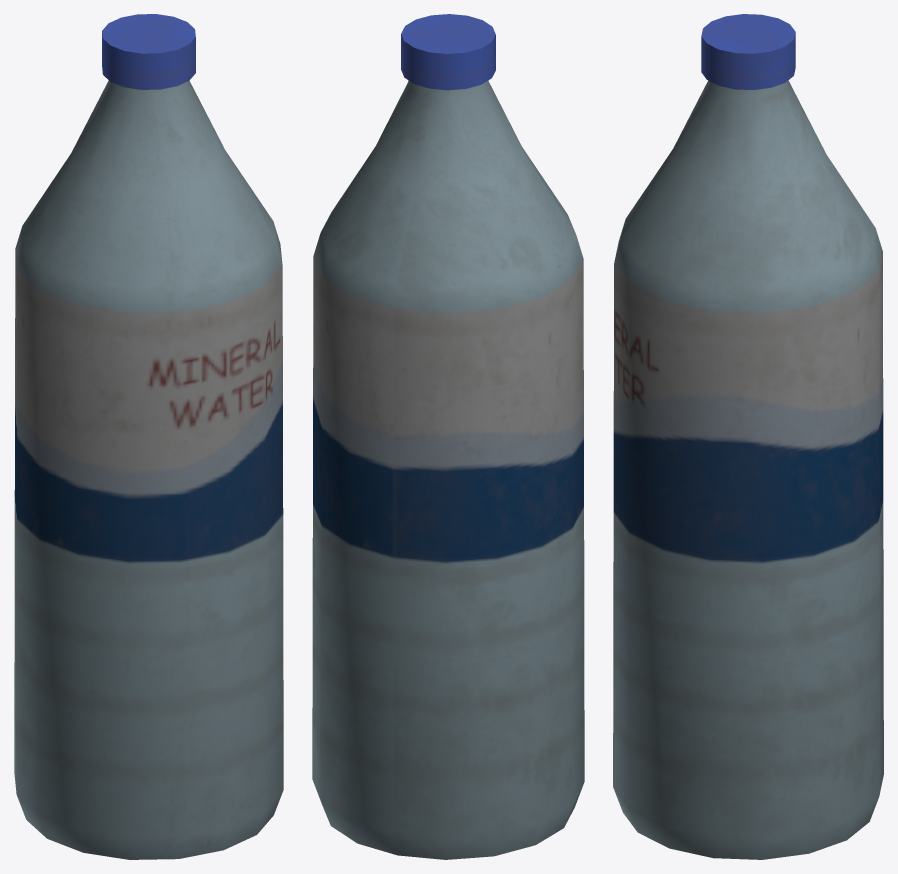
File: SM_Small_Trash_Bottle_02.FBX
3 renders of one model, left to right at view 1: azimuth 30°, elevation 25°; view 2: azimuth 150°, elevation 25°; view 3: azimuth 270°, elevation 25°, orthographic.
Visible parts, largest first — view 1: SM_Small_Trash_Bottle_02_LOD0; view 2: SM_Small_Trash_Bottle_02_LOD0; view 3: SM_Small_Trash_Bottle_02_LOD0.
Boxes of the visible parts, left/top/right/bottom form: SM_Small_Trash_Bottle_02_LOD0: left=14, top=14, right=283, bottom=859; SM_Small_Trash_Bottle_02_LOD0: left=312, top=14, right=584, bottom=859; SM_Small_Trash_Bottle_02_LOD0: left=613, top=14, right=883, bottom=859.
Size of what is drawn, in the model's own units: 8.22 by 8.22 by 25.89.
